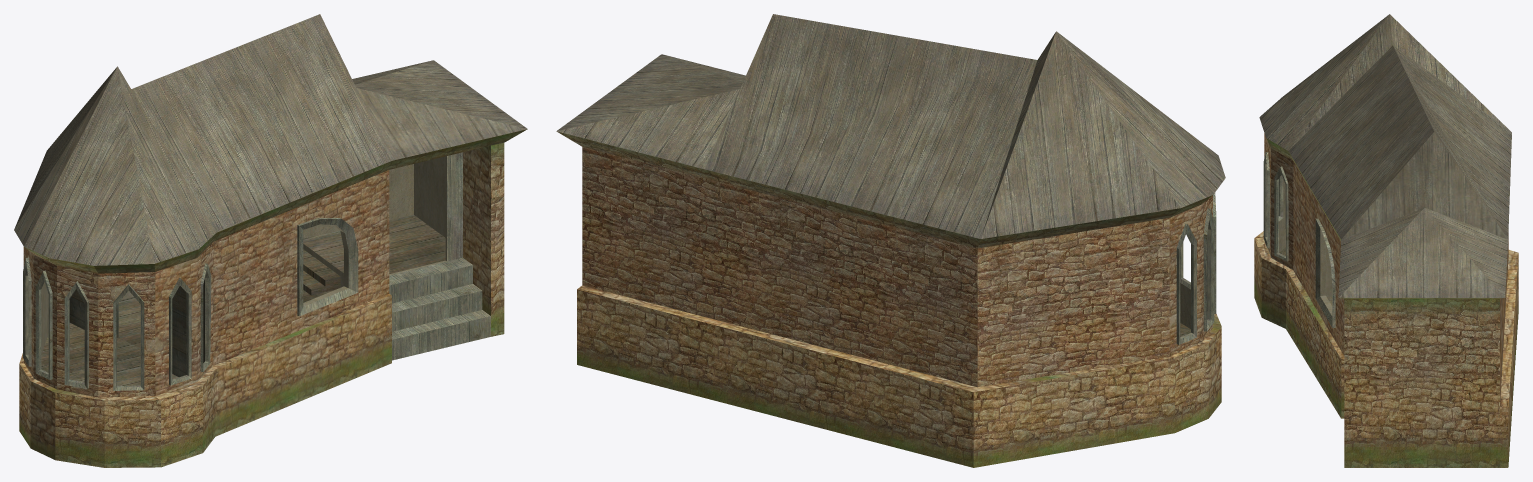
The model's file is House2.glb.
3 views of the same model, side by side, from view 1: azimuth 30°, elevation 25°; view 2: azimuth 150°, elevation 25°; view 3: azimuth 270°, elevation 25° (orthographic). The views are drawn at different scales.
Parts seen in each view (by area): view 1: House2; view 2: House2; view 3: House2.
Part boxes in pixels (x1,y1,x2,y2): House2: [14, 14, 527, 467]; House2: [556, 14, 1225, 467]; House2: [1254, 14, 1518, 467].
Bounding box in the file's own units: 10.02 × 6.48 × 5.2.
Materials: 9 (9 with a texture image).
